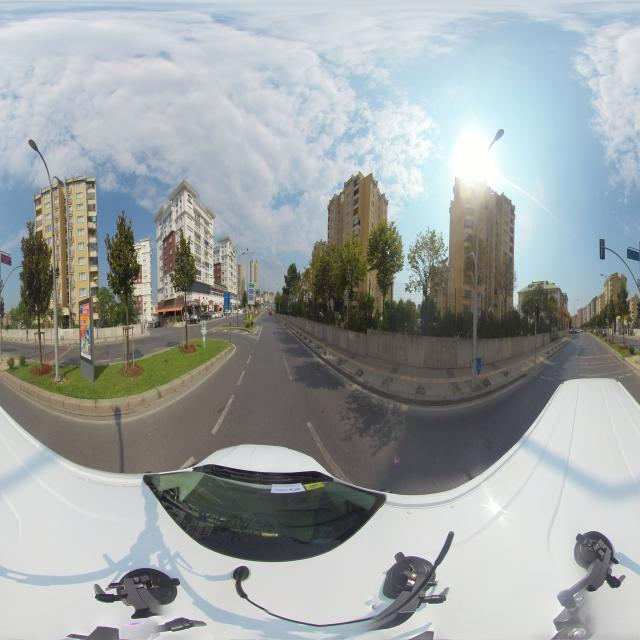SignStore: (188, 301, 198, 306), (209, 300, 213, 304), (203, 302, 208, 305), (216, 302, 218, 305)
